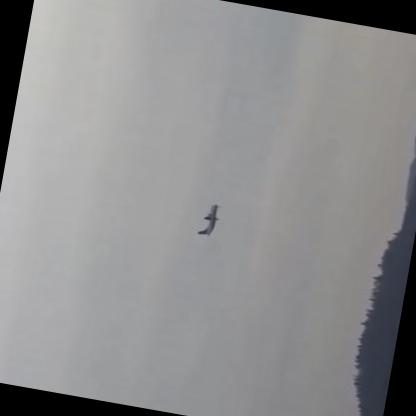plane: (196, 200, 220, 237)
